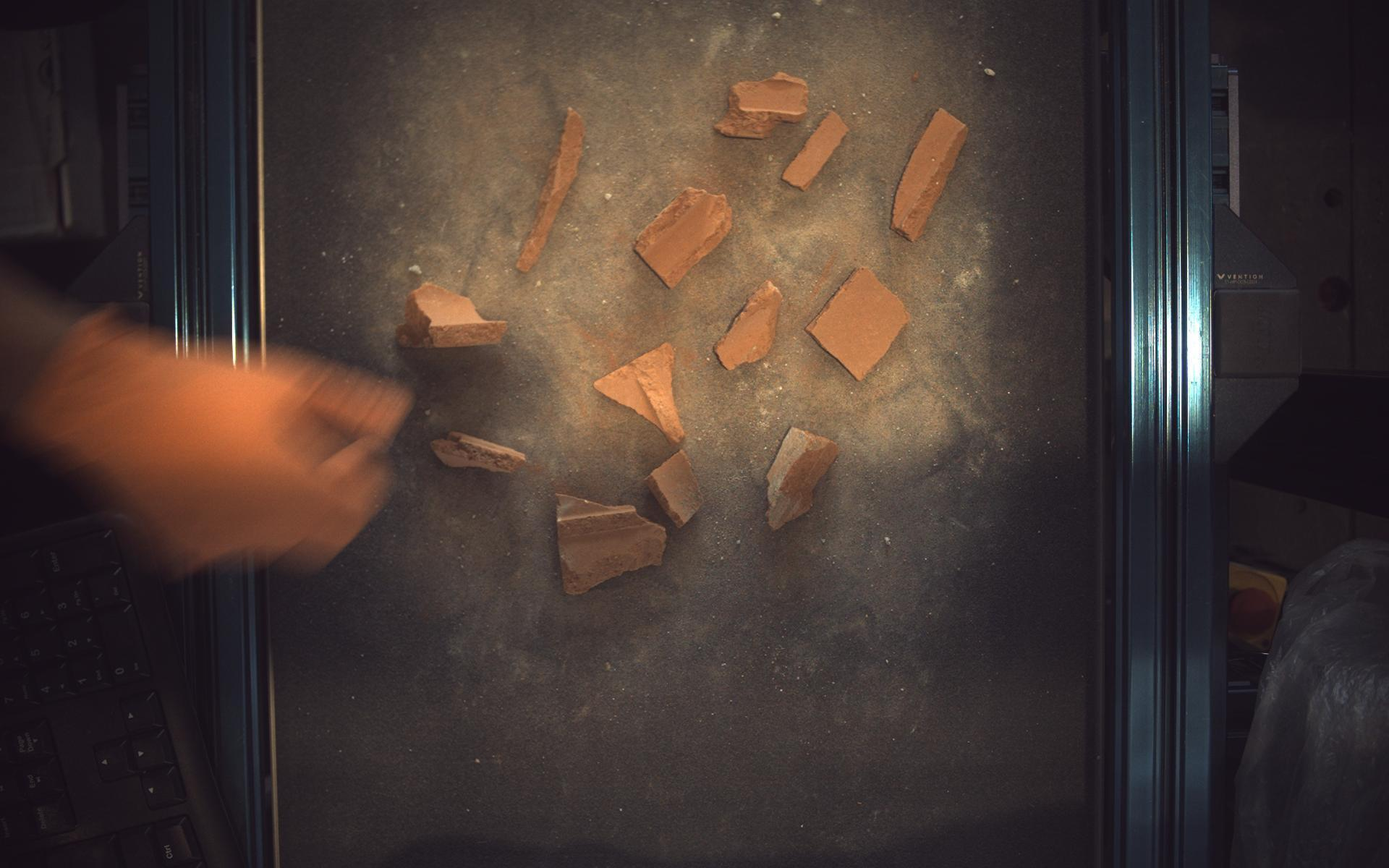brick: (807, 267, 912, 380), (517, 107, 585, 272), (557, 494, 667, 595), (893, 107, 970, 240), (635, 187, 734, 287), (595, 344, 687, 444), (768, 427, 841, 529), (396, 281, 506, 348), (715, 71, 810, 137), (715, 279, 783, 370), (783, 110, 849, 190), (647, 450, 704, 528), (431, 431, 526, 472)
